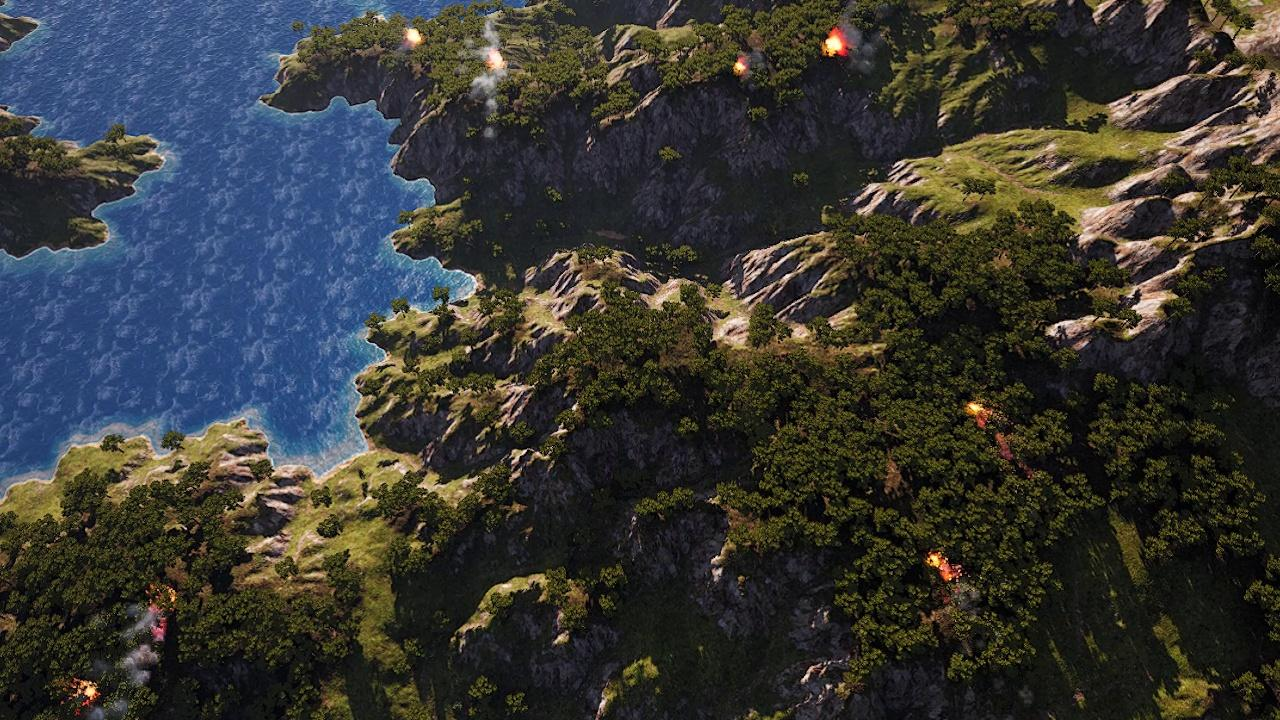fire: (930, 552, 965, 581), (968, 401, 994, 428), (70, 683, 98, 707), (824, 30, 848, 56), (149, 584, 176, 606), (489, 51, 506, 68), (407, 29, 423, 46), (732, 60, 744, 75)
smoke: (102, 600, 166, 684), (464, 19, 506, 141), (838, 0, 886, 72), (741, 45, 771, 85), (74, 699, 127, 720)
